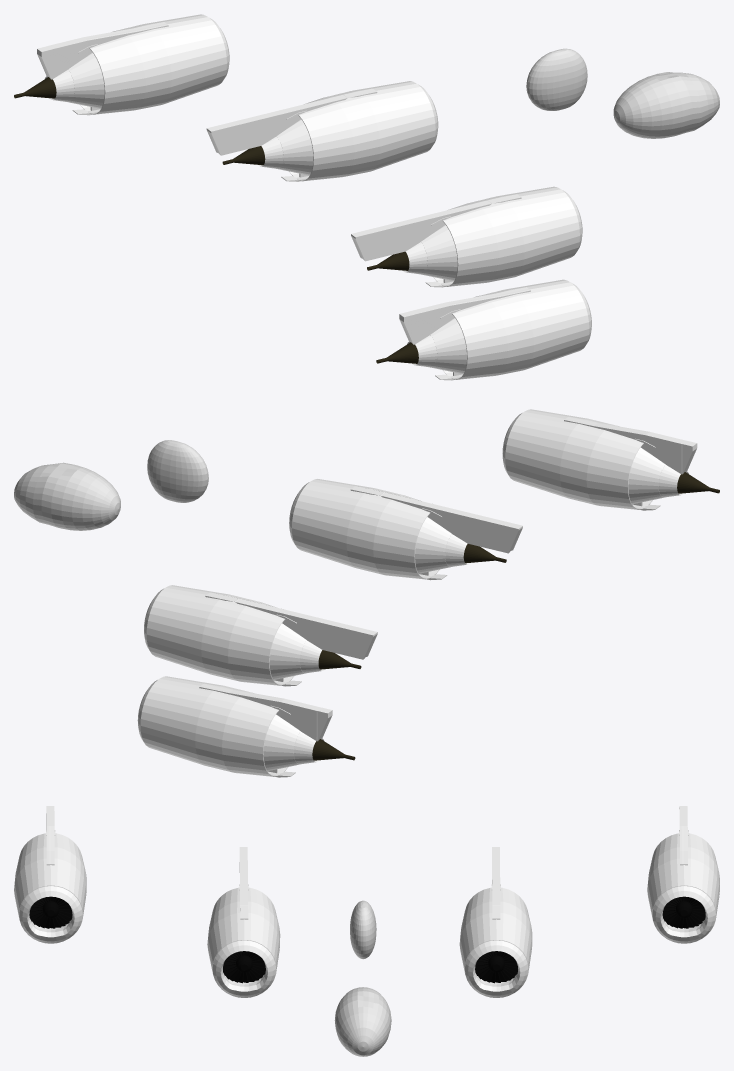
The picture shows the model from 3 angles, top to bottom: view 1: azimuth 30°, elevation 25°; view 2: azimuth 150°, elevation 25°; view 3: azimuth 270°, elevation 25°; orthographic projection. The views are drawn at different scales.
Visible parts, largest first — view 1: 立方体.001, 立方体, 立方体.002, 立方体.003, 球, 球.001, 円柱.008, 円柱.011, 円柱.004, 円柱.002; view 2: 立方体.001, 立方体, 立方体.003, 立方体.002, 球, 球.001, 円柱.011, 円柱.008, 円柱.002, 円柱.004; view 3: 立方体.001, 立方体, 立方体.003, 立方体.002, 球, 円柱.010, 円柱.003, 円柱.006, 円柱.001, 球.001, 円柱.012, 円柱.005 (+2 smaller).
Part boxes in pixels (x1=…): 立方体.001: x1=351, y1=186, x2=579, y2=287; 立方体: x1=206, y1=81, x2=434, y2=181; 立方体.002: x1=37, y1=14, x2=226, y2=115; 立方体.003: x1=399, y1=279, x2=588, y2=380; 球: x1=613, y1=72, x2=719, y2=138; 球.001: x1=526, y1=48, x2=587, y2=110; 円柱.008: x1=14, y1=52, x2=104, y2=108; 円柱.011: x1=376, y1=318, x2=466, y2=373; 円柱.004: x1=222, y1=119, x2=313, y2=175; 円柱.002: x1=367, y1=225, x2=457, y2=281; 立方体.001: x1=292, y1=479, x2=522, y2=580; 立方体: x1=147, y1=585, x2=377, y2=686; 立方体.003: x1=505, y1=409, x2=697, y2=510; 立方体.002: x1=141, y1=676, x2=332, y2=777; 球: x1=14, y1=462, x2=120, y2=530; 球.001: x1=147, y1=440, x2=208, y2=502; 円柱.011: x1=628, y1=447, x2=719, y2=504; 円柱.008: x1=263, y1=714, x2=355, y2=771; 円柱.002: x1=415, y1=517, x2=506, y2=573; 円柱.004: x1=269, y1=623, x2=361, y2=679; 立方体.001: x1=207, y1=847, x2=280, y2=989; 立方体: x1=459, y1=847, x2=532, y2=987; 立方体.003: x1=14, y1=806, x2=86, y2=933; 立方体.002: x1=647, y1=806, x2=719, y2=934; 球: x1=334, y1=987, x2=391, y2=1056; 円柱.010: x1=19, y1=886, x2=82, y2=943; 円柱.003: x1=465, y1=940, x2=528, y2=997; 円柱.006: x1=652, y1=886, x2=715, y2=943; 円柱.001: x1=212, y1=940, x2=275, y2=997; 球.001: x1=350, y1=900, x2=376, y2=959; 円柱.012: x1=29, y1=896, x2=72, y2=928; 円柱.005: x1=223, y1=951, x2=265, y2=983.
Bounding box in the file's own units: 18.43 × 4.88 × 24.84.
